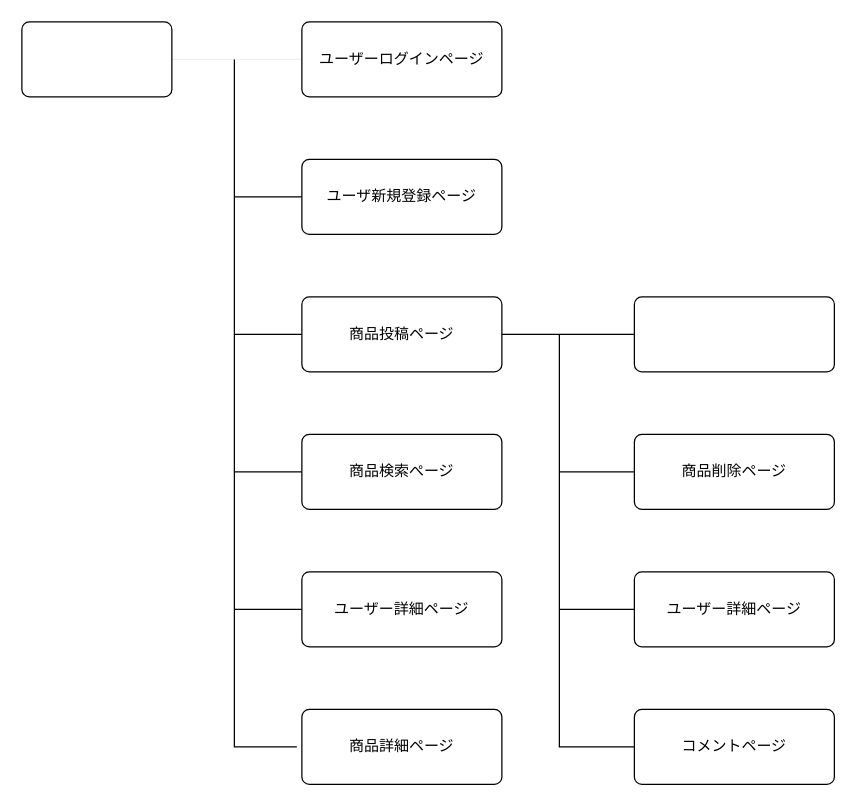
Some shapes in this 856 by 806 pixel diagram are drawn without their labels. Here are the shapes that lost their labels. From the top down, the centre of each, then its label:
At [96,59]: "一覧ページ".
At [733,334]: "商品編集ページ".
